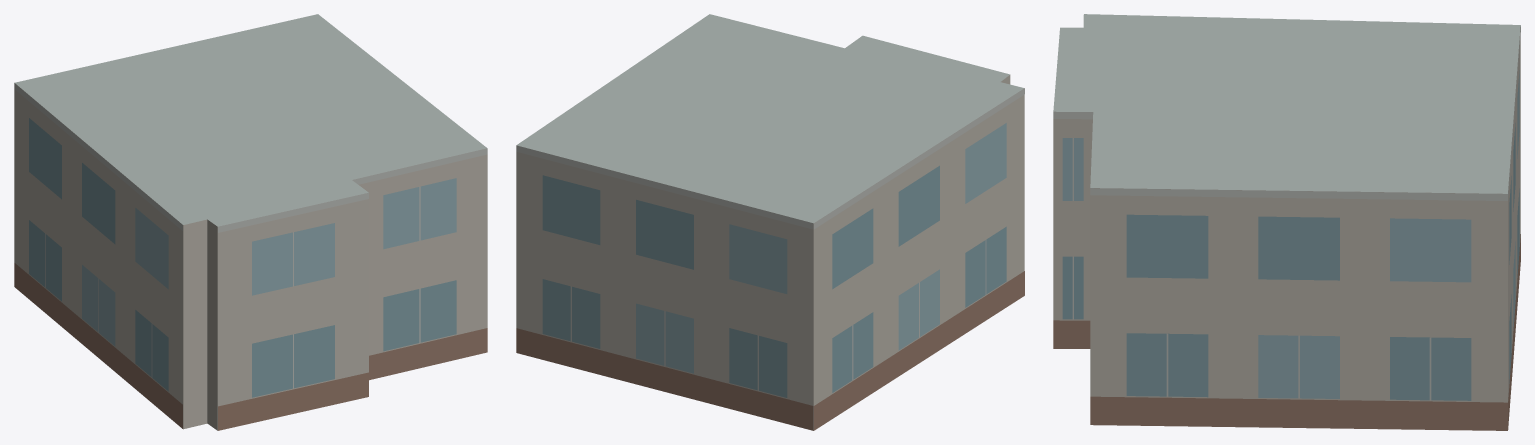
The model's file is survey-upis-33033328.glb.
3 views of the same model, side by side, from view 1: azimuth 30°, elevation 25°; view 2: azimuth 150°, elevation 25°; view 3: azimuth 270°, elevation 25° (orthographic). The views are drawn at different scales.
Visible parts, largest first — view 1: survey-upis-33033328.tmp; view 2: survey-upis-33033328.tmp; view 3: survey-upis-33033328.tmp.
Boxes of the visible parts, x1=… form: survey-upis-33033328.tmp: x1=14, y1=14, x2=487, y2=430; survey-upis-33033328.tmp: x1=516, y1=14, x2=1024, y2=430; survey-upis-33033328.tmp: x1=1053, y1=14, x2=1520, y2=430.
Bounding box in the file's own units: 12.95 × 7.95 × 14.22.
